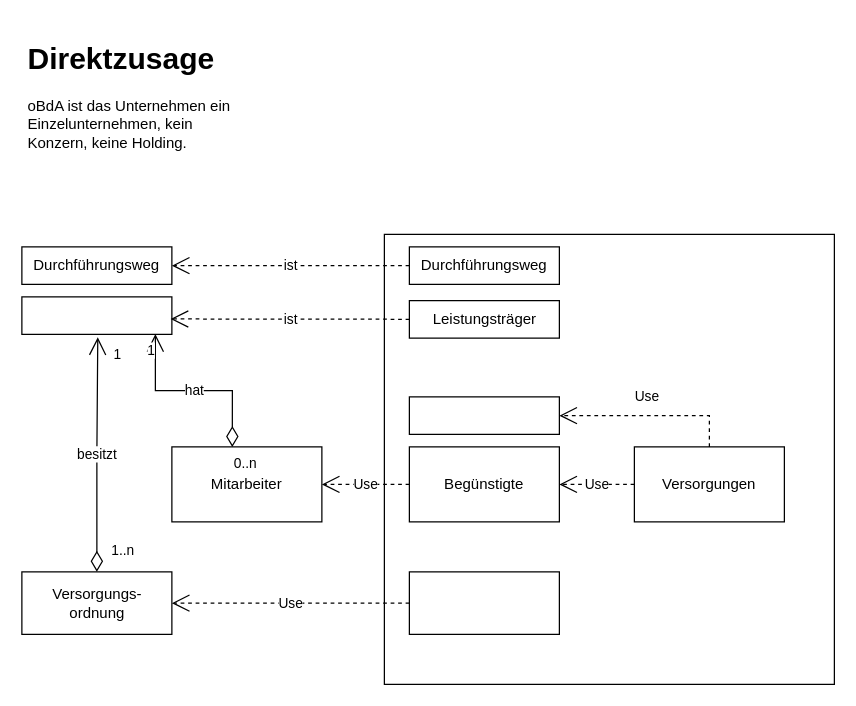
The diagram is 856 pixels wide and 706 high, and some of its shapes have lost their labels. The centre of each missing label's shape, as x and y in pixels:
"Firmenkunde" goes at [483,415].
"Regelungsinhalte" goes at [483,602].
"Unternehmen" goes at [96,315].
